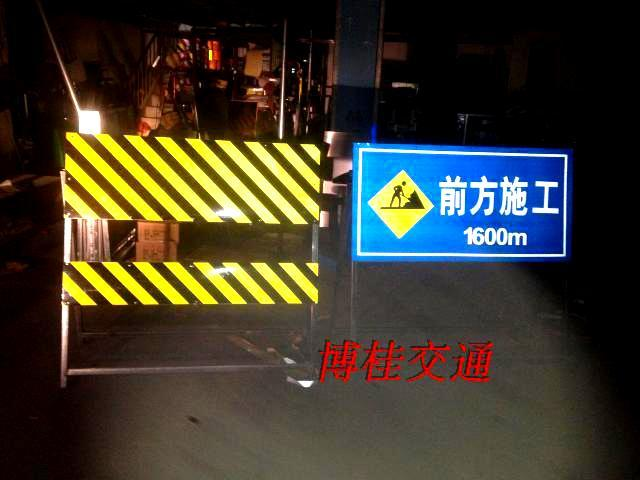sign: (65, 135, 321, 308), (357, 152, 562, 255)
